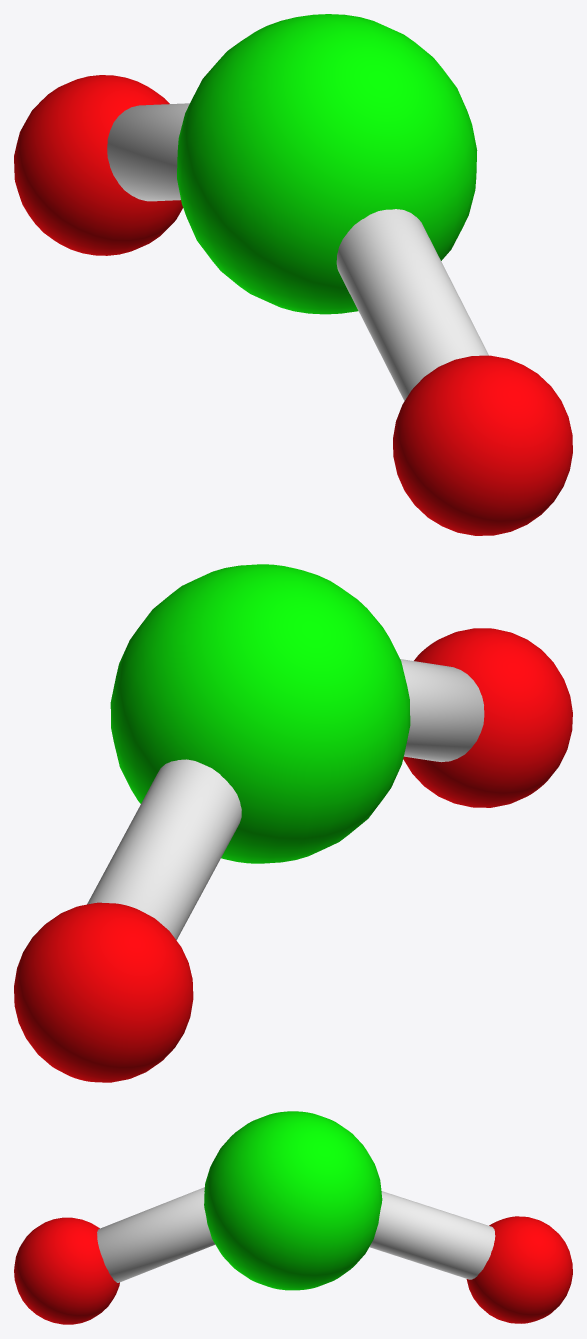
3 renders of one model, top to bottom at view 1: azimuth 30°, elevation 25°; view 2: azimuth 150°, elevation 25°; view 3: azimuth 270°, elevation 25°, orthographic. The views are drawn at different scales.
Parts seen in each view (by area): view 1: 구체, 구체.004, 구체.003, 실린더, 실린더.003; view 2: 구체, 구체.003, 구체.004, 실린더.003, 실린더; view 3: 구체, 구체.004, 구체.003, 실린더.003, 실린더.
Boxes of the visible parts, x1,y1,x2,y2 form: 구체: (177, 14, 477, 314); 구체.004: (393, 355, 572, 535); 구체.003: (14, 75, 182, 255); 실린더: (336, 209, 488, 400); 실린더.003: (107, 103, 189, 201); 구체: (110, 564, 410, 863); 구체.003: (14, 902, 193, 1082); 구체.004: (403, 628, 572, 807); 실린더.003: (87, 759, 241, 939); 실린더: (400, 659, 484, 762); 구체: (204, 1111, 382, 1290); 구체.004: (14, 1217, 119, 1324); 구체.003: (466, 1216, 572, 1323); 실린더.003: (369, 1191, 495, 1279); 실린더: (97, 1187, 215, 1282).
Size of the model in its own units: 248 by 322 by 779.
